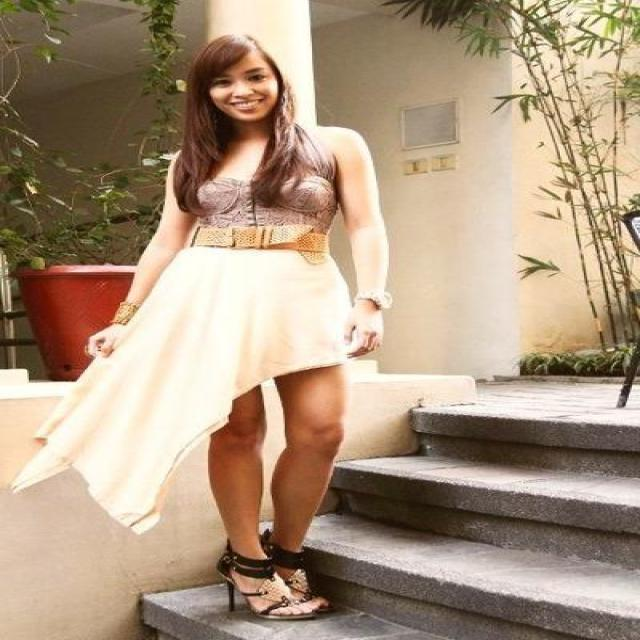dress: (0, 245, 358, 533)
shirt: (211, 152, 347, 234)
shoe: (218, 534, 324, 612)
